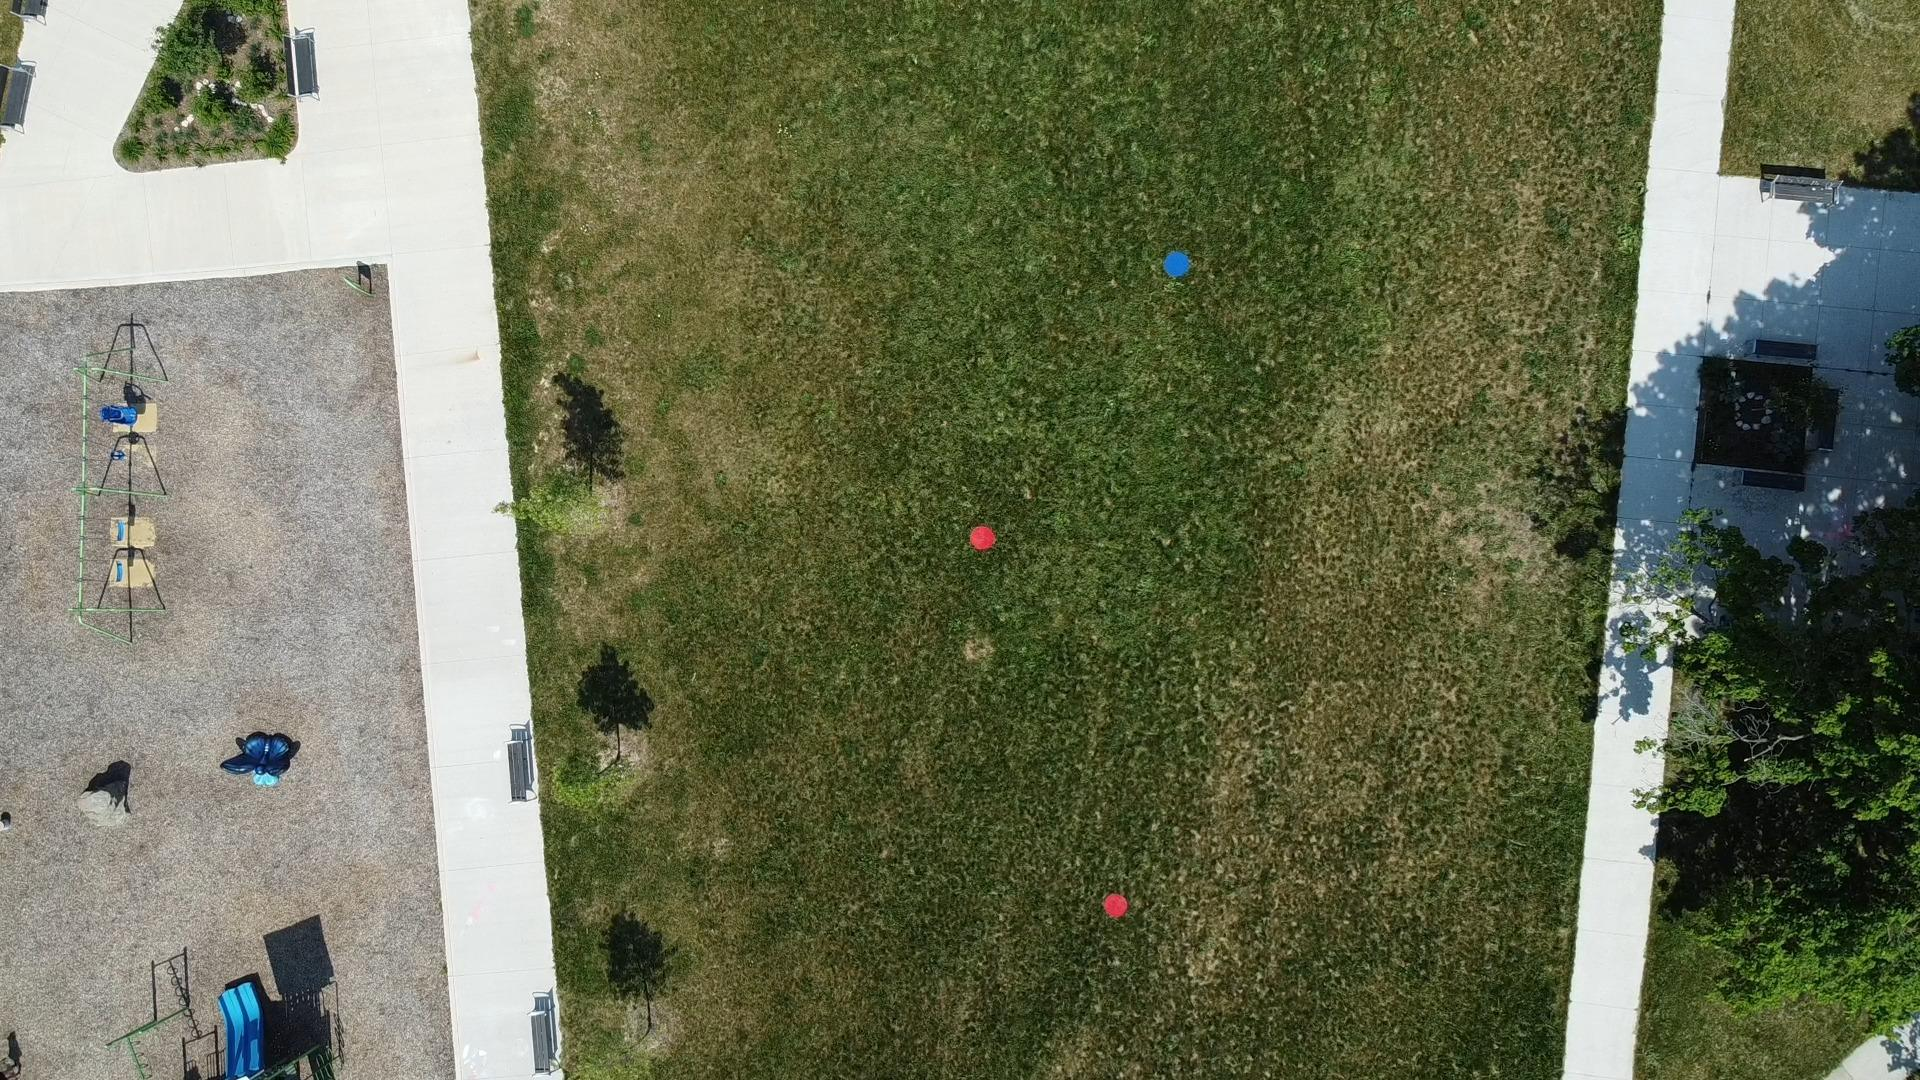Blue: (1163, 252, 1191, 278)
Red: (969, 525, 997, 553), (1102, 893, 1129, 919)
